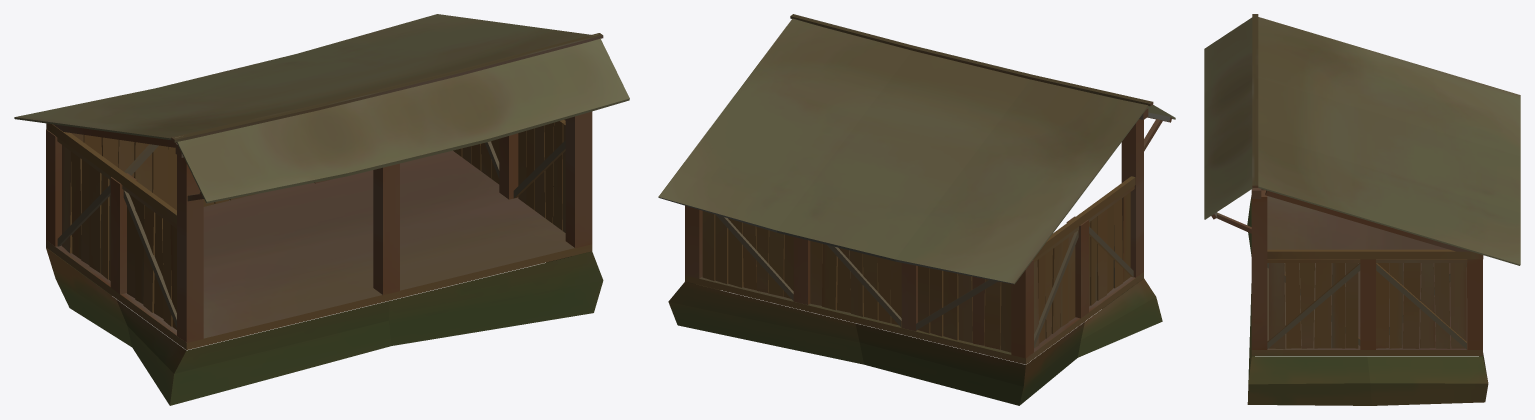
The model's file is stockhouse.fbx.
3 renders of one model, left to right at view 1: azimuth 30°, elevation 25°; view 2: azimuth 150°, elevation 25°; view 3: azimuth 270°, elevation 25°, orthographic. The views are drawn at different scales.
Visible parts, largest first — view 1: Stockhouse, StockhouseRoof; view 2: StockhouseRoof, Stockhouse; view 3: StockhouseRoof, Stockhouse.
Boxes of the visible parts, x1,y1,x2,y2 form: Stockhouse: (46,111,603,405); StockhouseRoof: (14,14,629,203); StockhouseRoof: (658,14,1175,284); Stockhouse: (668,119,1162,405); StockhouseRoof: (1204,14,1520,265); Stockhouse: (1247,189,1488,405).
Size of the model in its own units: 496 by 293 by 375.
